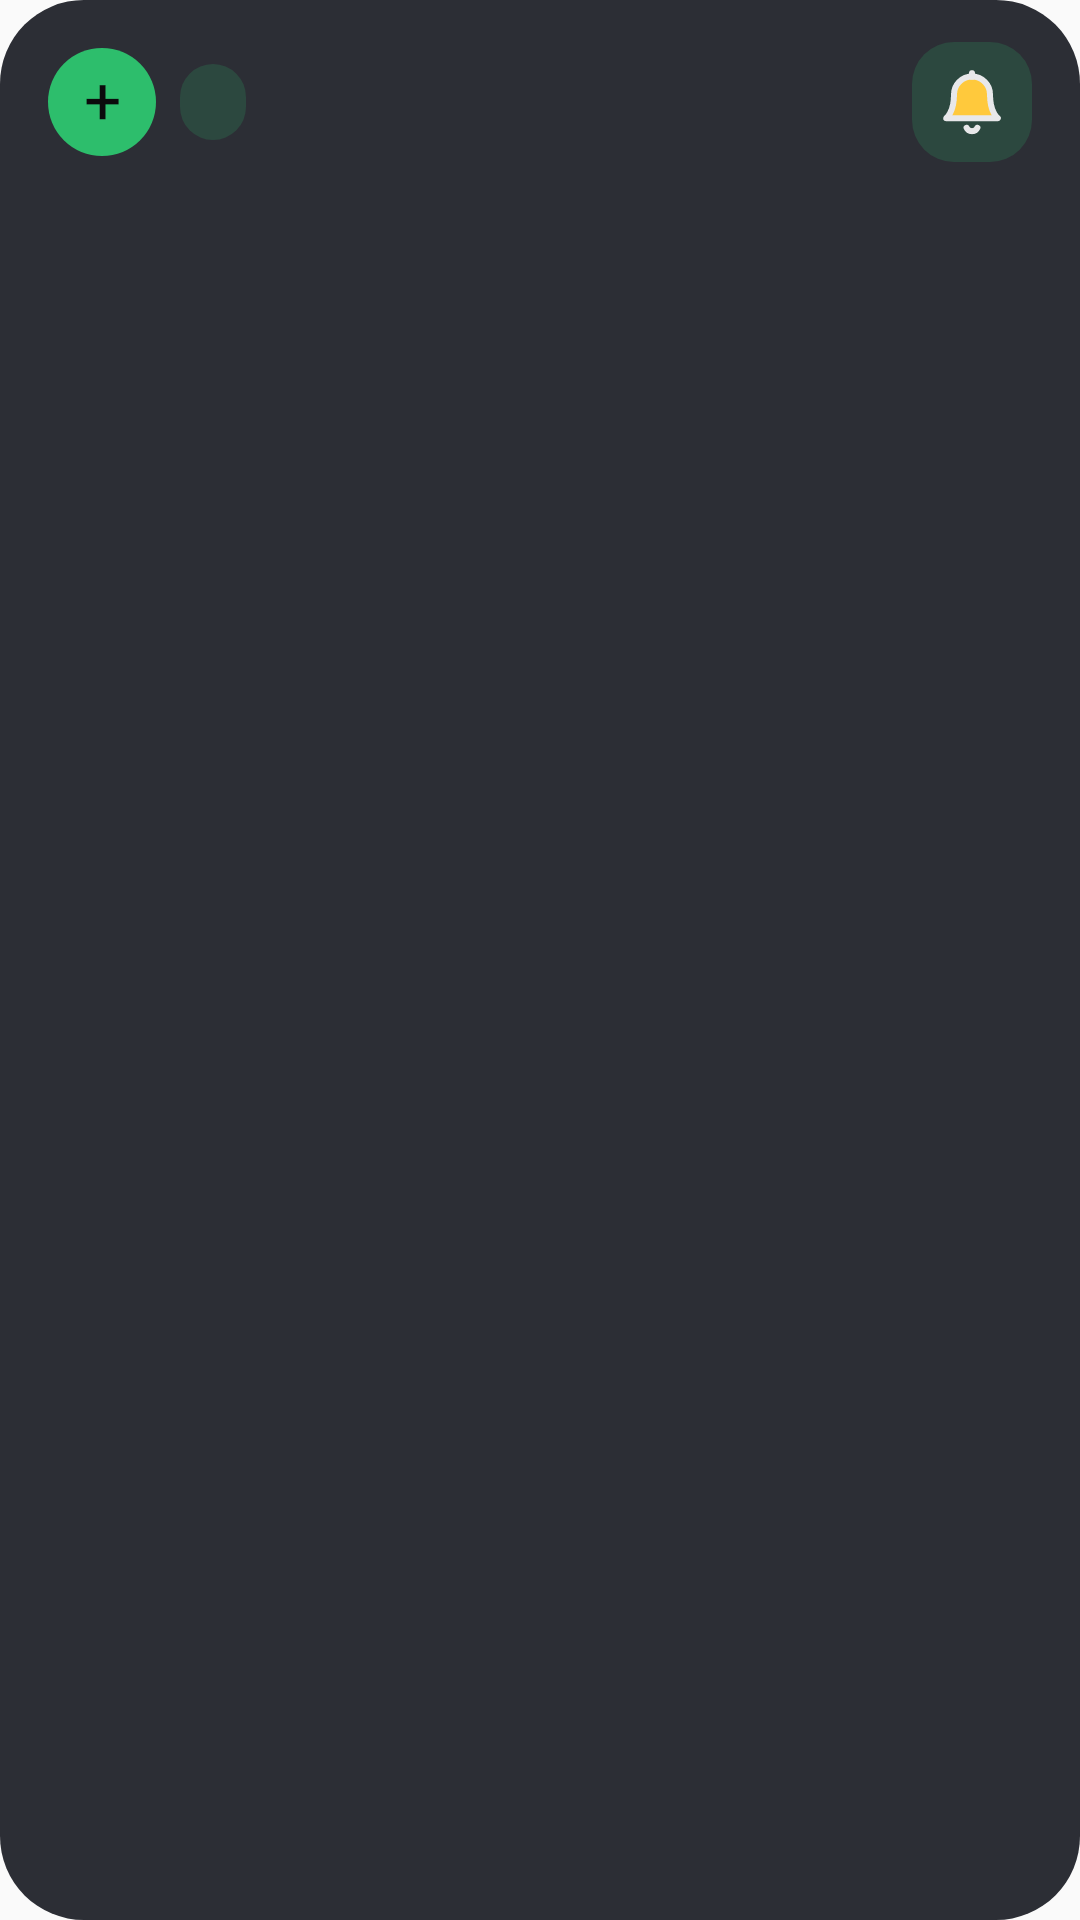

Screen size 1080*1920. Icon name, then its center in pixels as [x,y]:
bell: [972,102]
